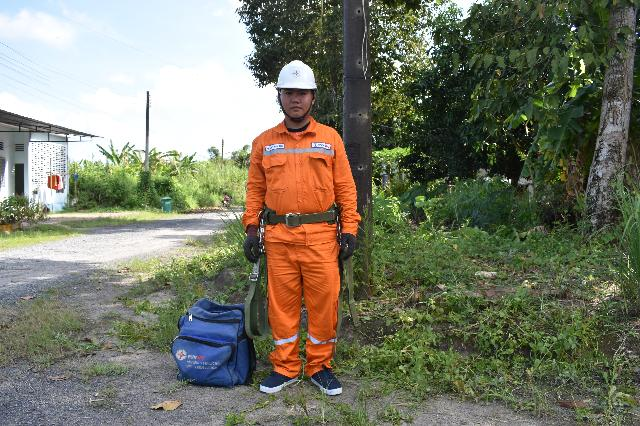gloves: (241, 227, 266, 264), (337, 227, 359, 264)
harness: (250, 201, 350, 228)
helmet: (275, 53, 323, 97)
shoes: (303, 358, 365, 404), (256, 362, 298, 396)
